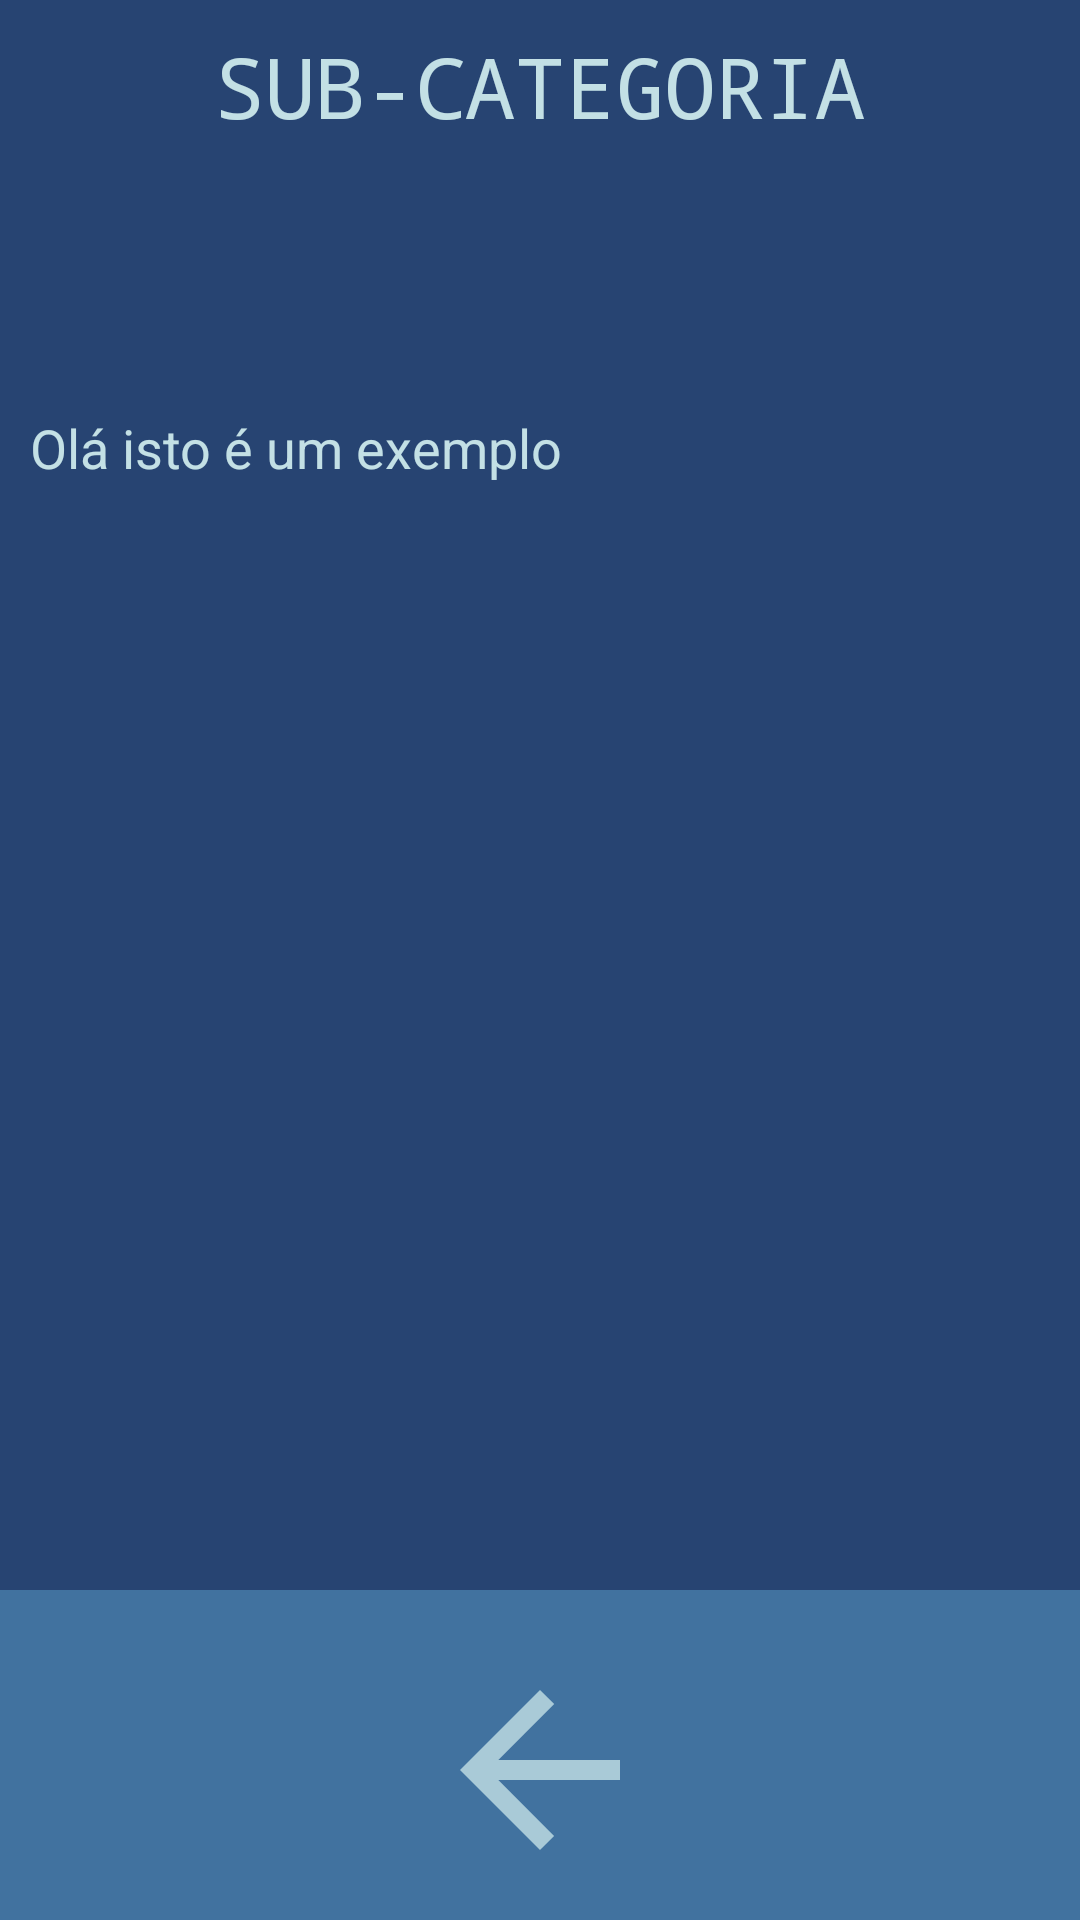

Named icons in this screenshot (1080px×1920px) and their centers, [x,y]:
arrow back clara: [540,1770]
